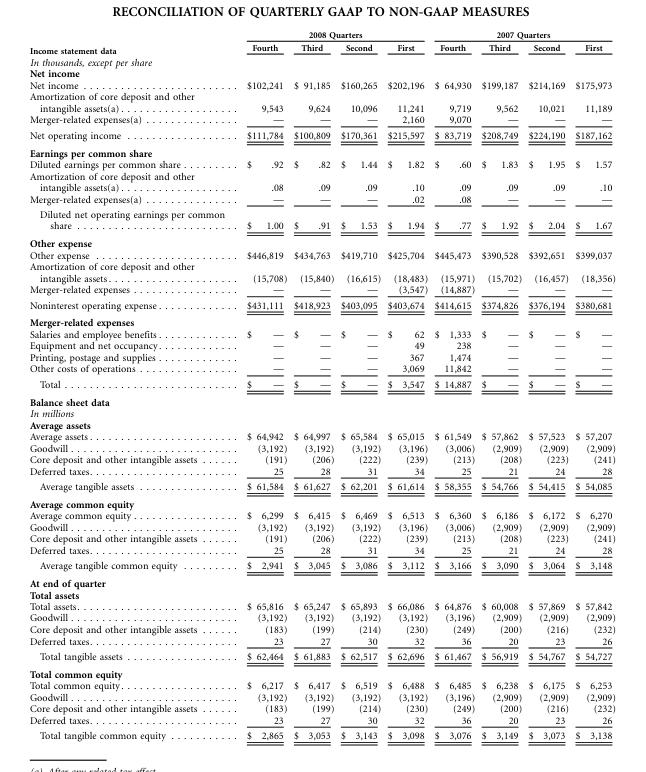table: (28, 29, 615, 740)
table column: (28, 29, 235, 740), (235, 29, 289, 740), (289, 29, 336, 740), (336, 29, 383, 740), (383, 29, 430, 740), (430, 29, 477, 740), (477, 29, 524, 740), (524, 29, 571, 740), (571, 29, 615, 740)
table column header: (28, 29, 615, 56)
table projected row header: (28, 143, 615, 158), (28, 234, 615, 249), (28, 313, 615, 328), (28, 392, 615, 407), (28, 494, 615, 509), (28, 664, 615, 679), (28, 574, 615, 588), (28, 67, 615, 79), (28, 418, 615, 430), (28, 588, 615, 600), (28, 56, 615, 67), (28, 407, 615, 418)
table row: (28, 206, 615, 234), (28, 90, 615, 113), (28, 169, 615, 192), (28, 260, 615, 283), (28, 296, 615, 313), (28, 557, 615, 574), (28, 40, 615, 56), (28, 127, 615, 143), (28, 376, 615, 392), (28, 478, 615, 494), (28, 648, 615, 664), (28, 143, 615, 158), (28, 234, 615, 249), (28, 313, 615, 328), (28, 392, 615, 407), (28, 494, 615, 509), (28, 664, 615, 679), (28, 113, 615, 127), (28, 192, 615, 206), (28, 362, 615, 376), (28, 464, 615, 478), (28, 574, 615, 588), (28, 634, 615, 648), (28, 283, 615, 296), (28, 544, 615, 557), (28, 714, 615, 727), (28, 727, 615, 740), (28, 67, 615, 79), (28, 339, 615, 351), (28, 418, 615, 430), (28, 441, 615, 453), (28, 509, 615, 521), (28, 532, 615, 544), (28, 588, 615, 600), (28, 611, 615, 623), (28, 679, 615, 691), (28, 702, 615, 714), (28, 29, 615, 40), (28, 56, 615, 67), (28, 79, 615, 90), (28, 158, 615, 169), (28, 249, 615, 260), (28, 328, 615, 339), (28, 351, 615, 362), (28, 407, 615, 418), (28, 430, 615, 441), (28, 453, 615, 464), (28, 521, 615, 532), (28, 600, 615, 611), (28, 623, 615, 634), (28, 691, 615, 702)
table spanning cell: (28, 29, 235, 56), (235, 29, 430, 40), (430, 29, 615, 40)
